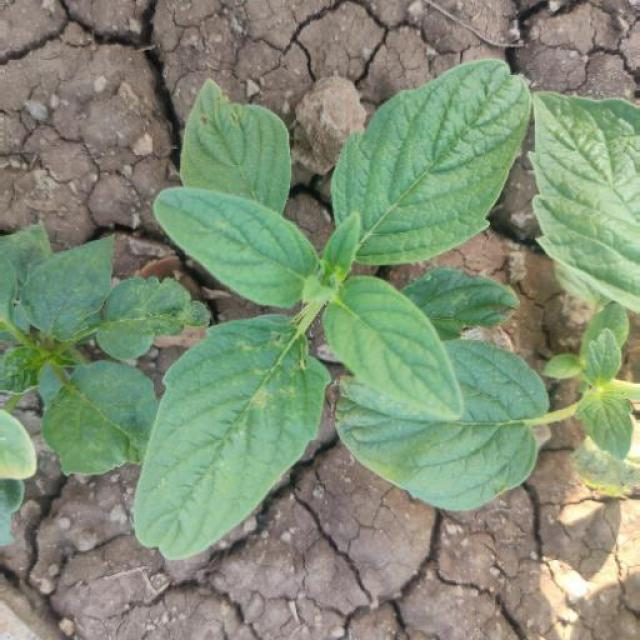crop: (132, 66, 548, 529), (2, 218, 218, 500)
